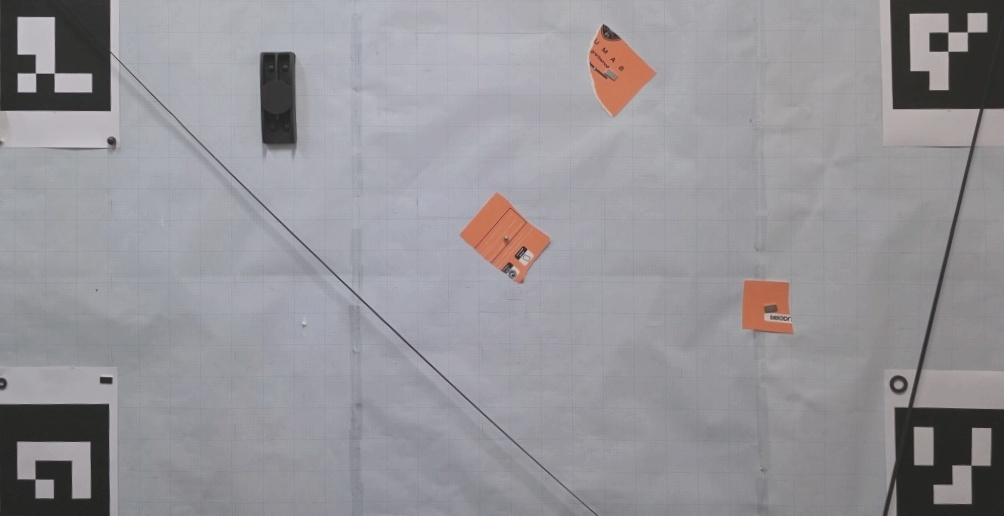obstacle: (460, 191, 551, 284), (588, 22, 655, 118), (259, 53, 296, 146), (740, 277, 794, 335)
